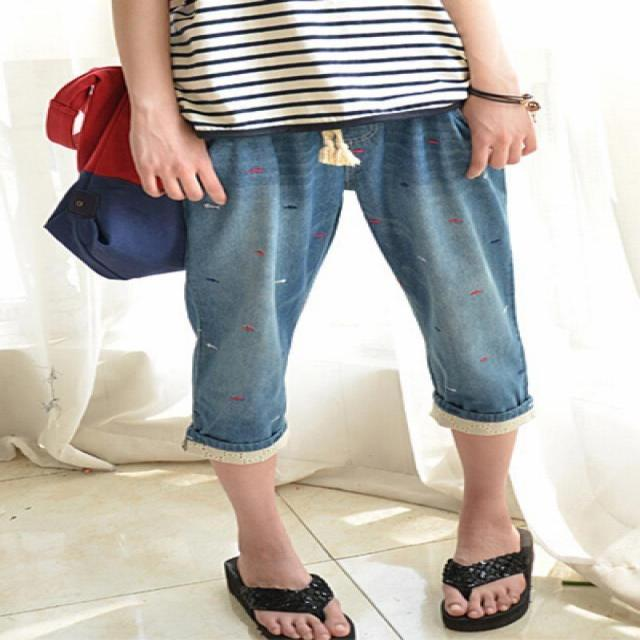trousers: (115, 117, 608, 508)
